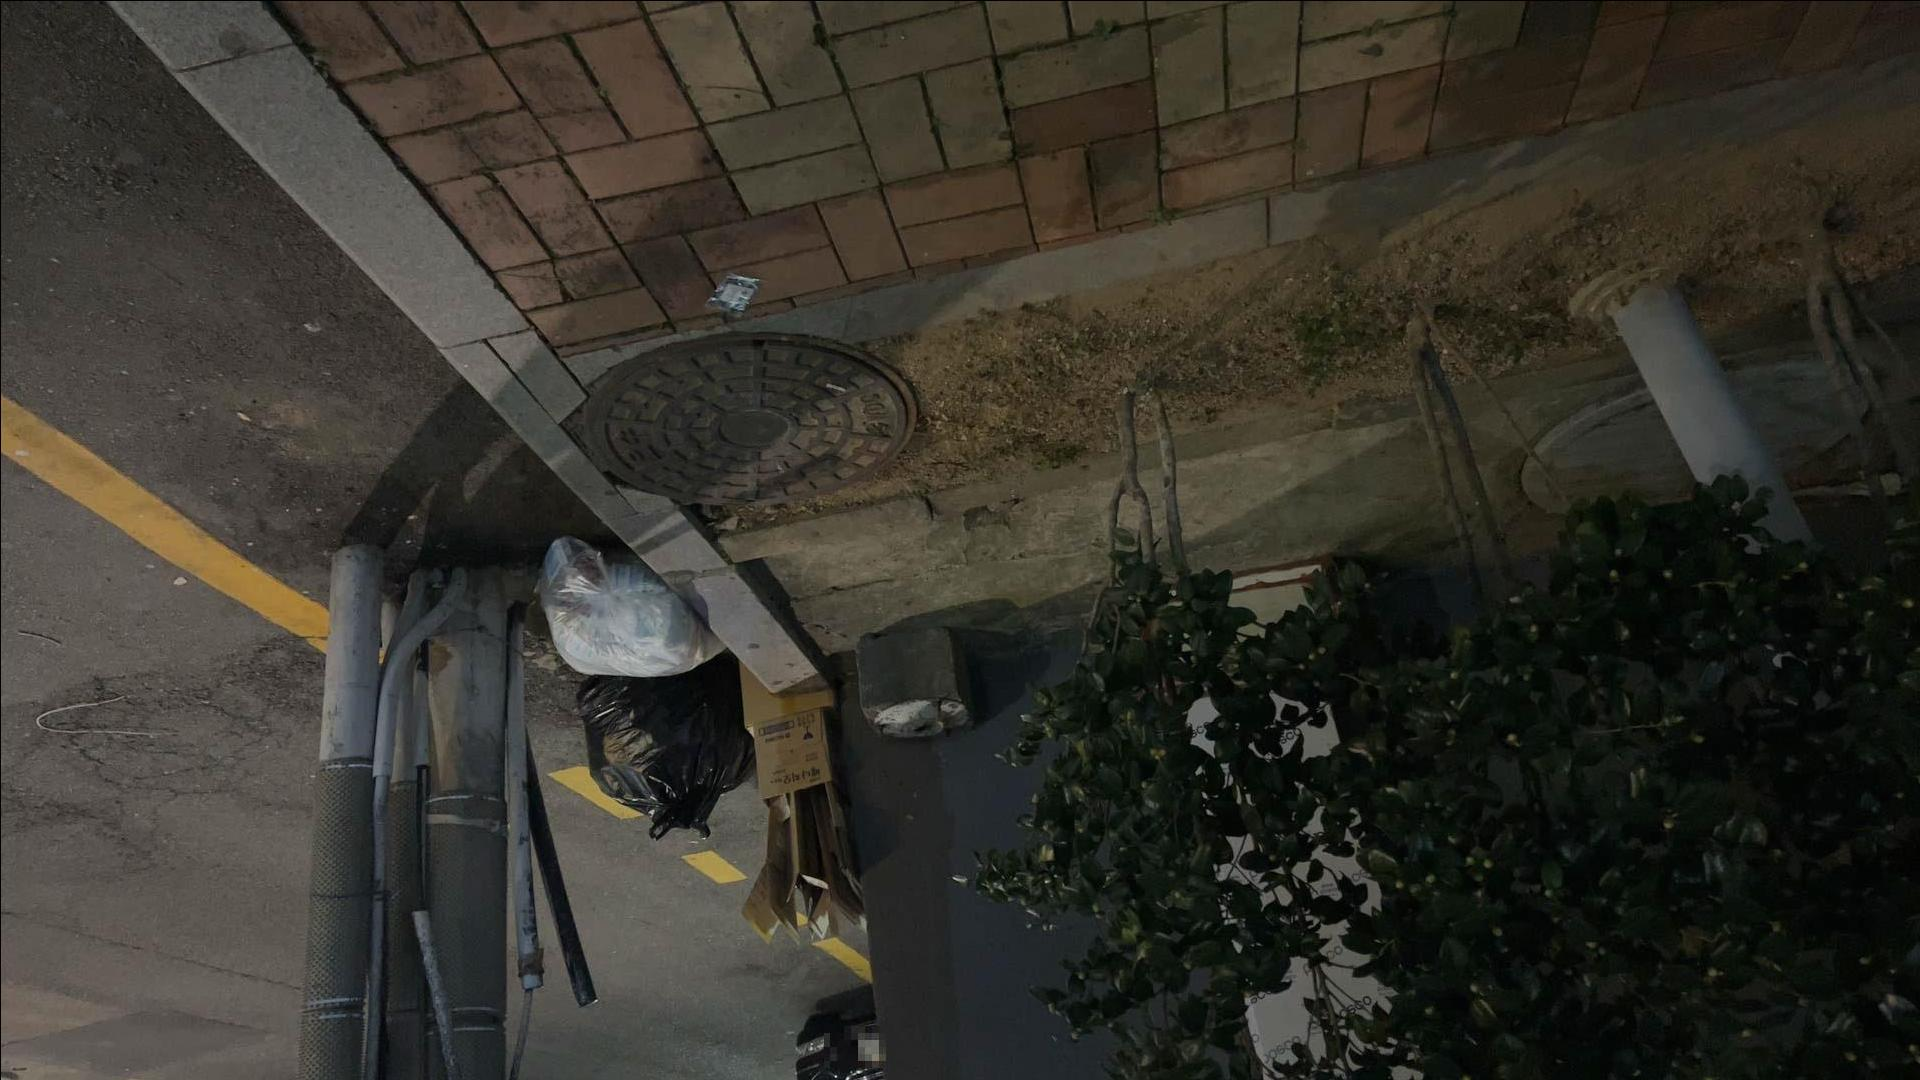black_bag: (568, 673, 756, 844)
white_bag: (527, 527, 733, 680)
